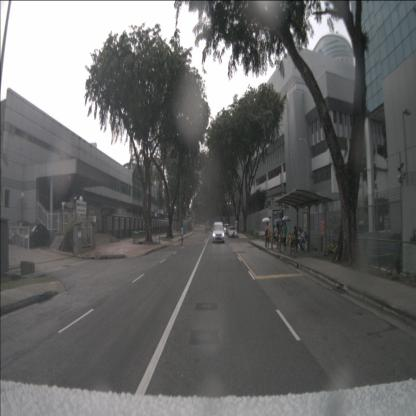human-pedestrian-adult: (282, 215, 290, 251), (274, 217, 282, 250), (292, 226, 302, 252), (262, 217, 270, 249), (299, 229, 306, 254), (292, 226, 298, 250), (180, 224, 184, 247), (235, 220, 238, 232)
vehicle-car: (18, 223, 50, 249), (4, 221, 34, 244), (212, 222, 224, 243), (228, 226, 237, 237), (226, 225, 232, 235), (224, 224, 229, 233)
